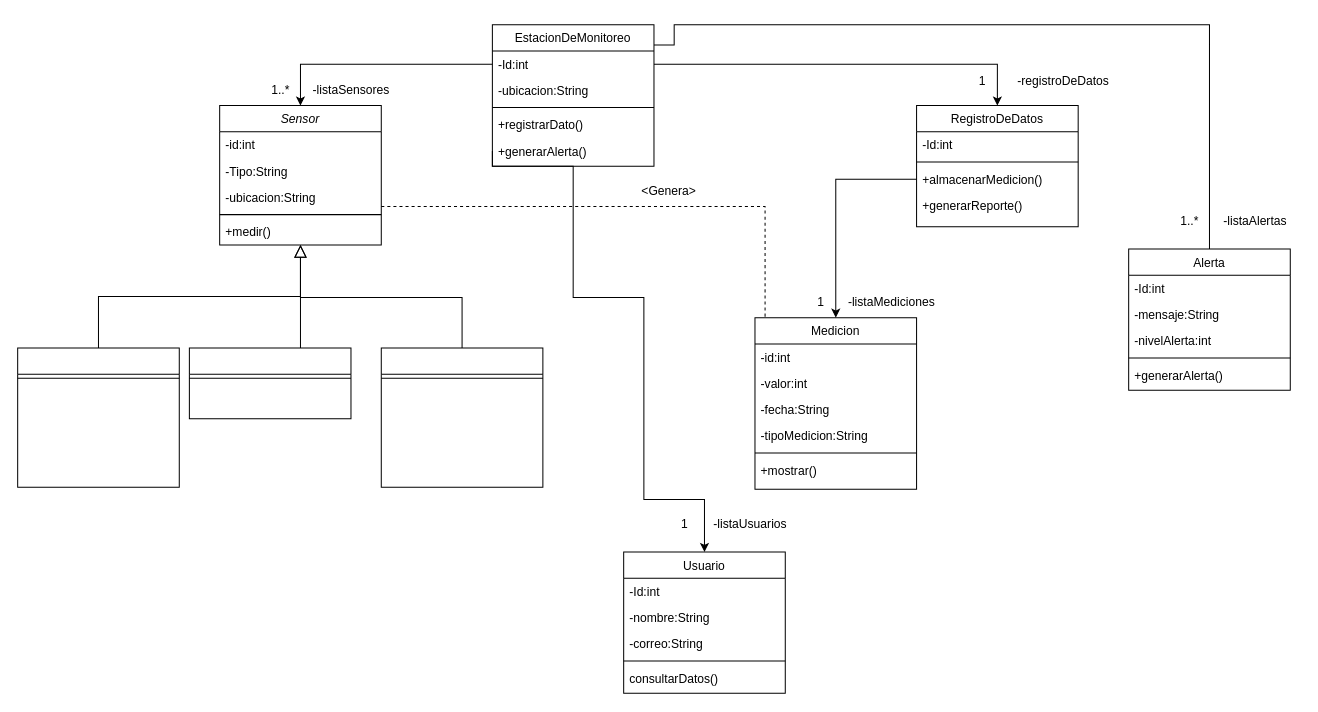
Image size: 1318x712. Some labels were removed from this diagram. The centre of each missing label's shape, as x and y in pixels:
SensorCO2: [98,417]
SensorHumedad: [461,417]
SensorTemperatura: [269,383]
